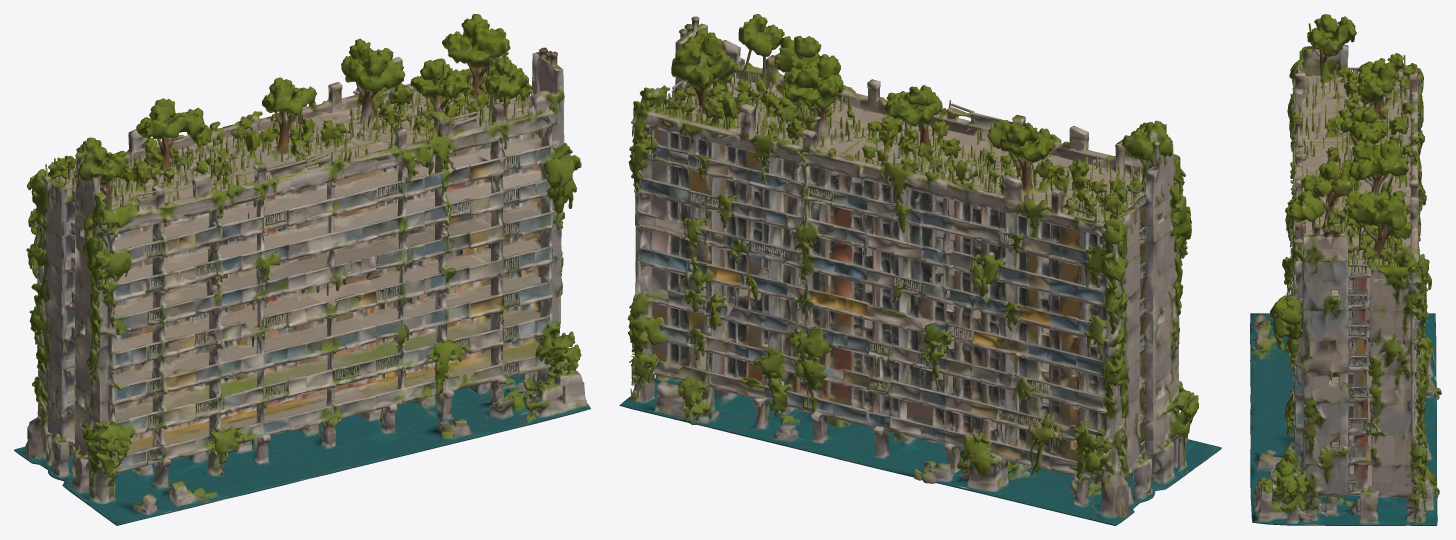
File: cityFlatHi.glb
The picture shows the model from 3 angles, left to right: view 1: azimuth 30°, elevation 25°; view 2: azimuth 150°, elevation 25°; view 3: azimuth 270°, elevation 25°; orthographic projection. The views are drawn at different scales.
Size of the model in its own units: 1.91 by 1.32 by 0.7267.
1 material, 1 textured.
